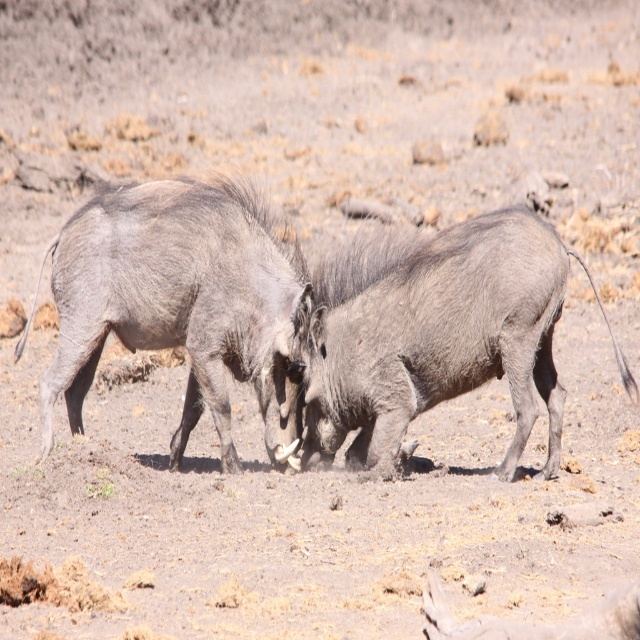Pig: (286, 198, 639, 478), (14, 170, 316, 474)
